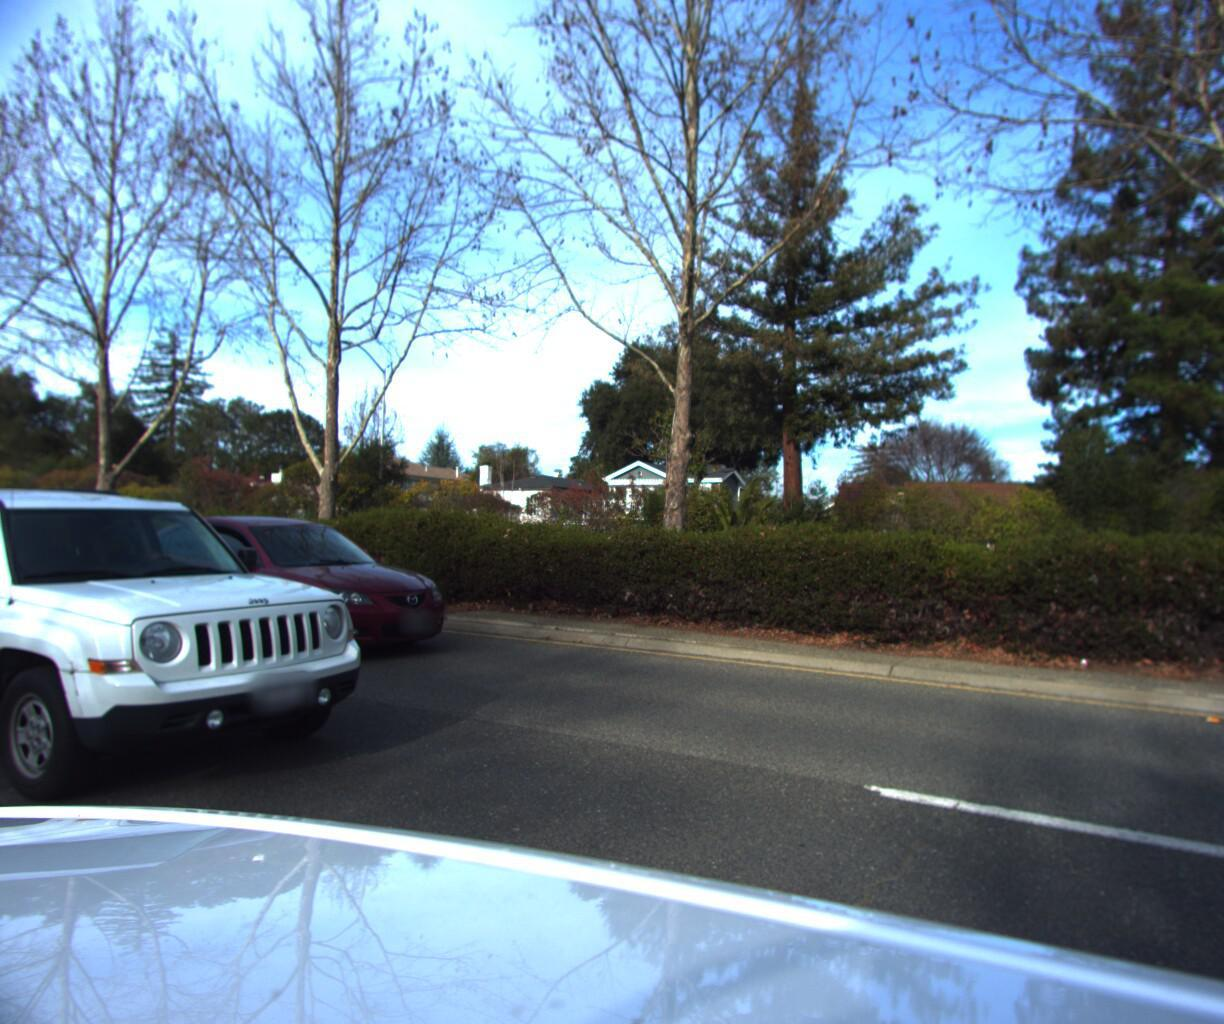car: (0, 458, 432, 867), (104, 514, 478, 677)
